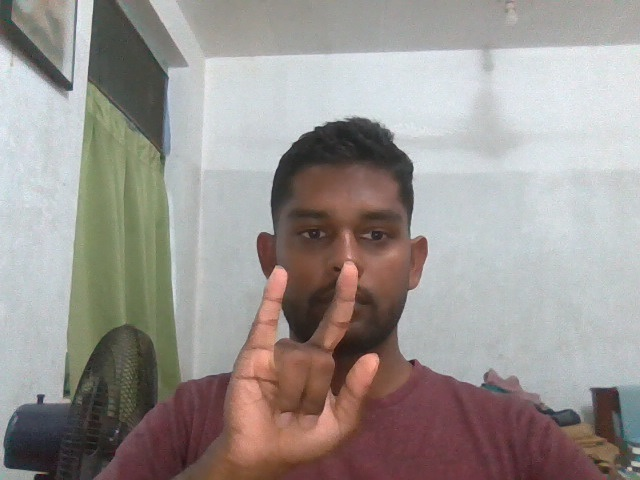hello: (200, 258, 390, 475)
